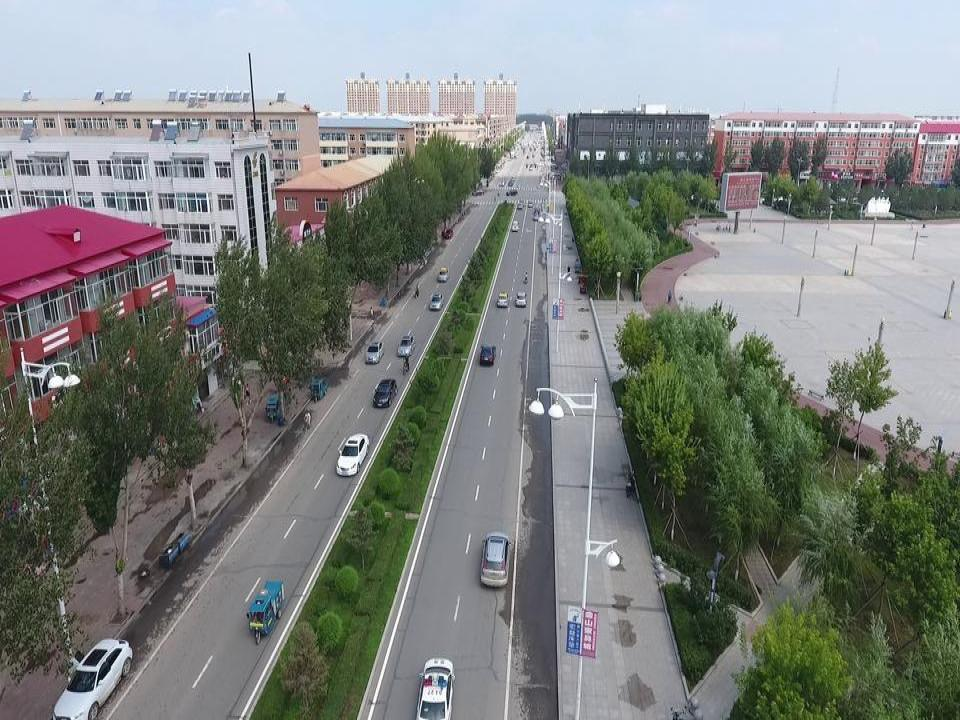car: (53, 634, 132, 720), (418, 656, 455, 720), (479, 529, 511, 591), (337, 433, 369, 476), (373, 377, 397, 407), (364, 340, 385, 364), (479, 343, 496, 364), (398, 335, 415, 356), (430, 294, 443, 310), (515, 291, 527, 308), (497, 290, 509, 307), (438, 267, 450, 281), (442, 227, 453, 237), (472, 188, 485, 196), (506, 189, 518, 196), (527, 198, 533, 206), (533, 212, 538, 221), (499, 179, 505, 185), (516, 203, 522, 209), (508, 179, 513, 185), (534, 207, 540, 212), (519, 200, 524, 205)
van: (512, 221, 519, 232)
